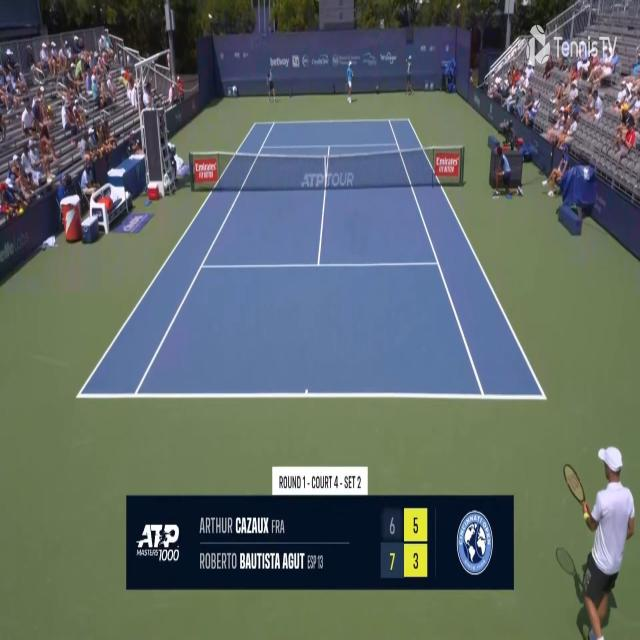tennis-player: (555, 444, 638, 637), (345, 59, 355, 106)
